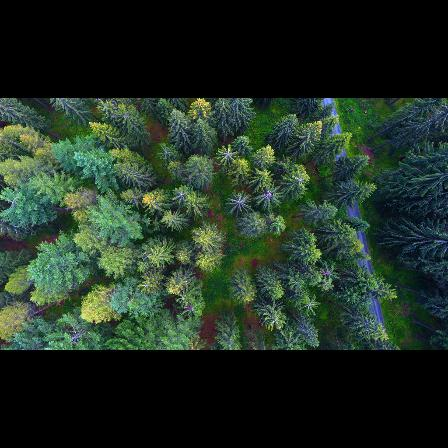Sick: (254, 181, 283, 211), (224, 189, 252, 218), (215, 143, 240, 170), (295, 294, 320, 320), (169, 186, 191, 207), (319, 261, 338, 284), (155, 142, 176, 162)
